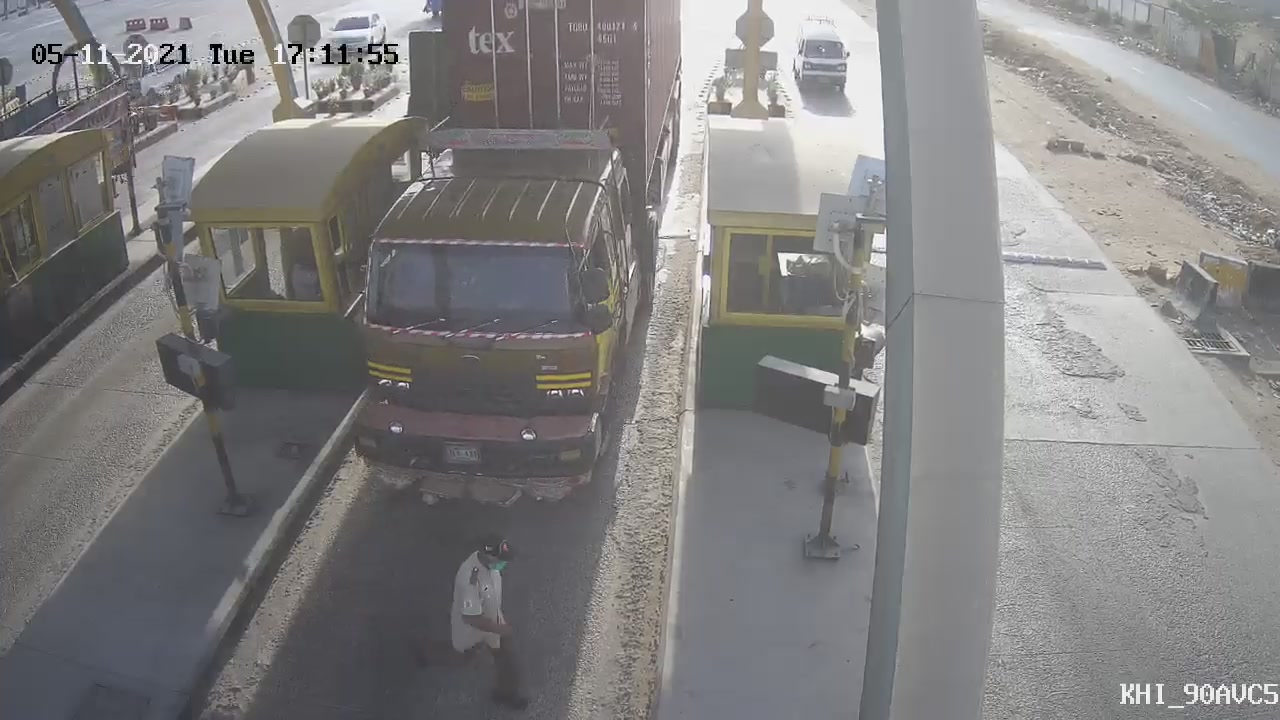F6: (322, 4, 699, 520)
